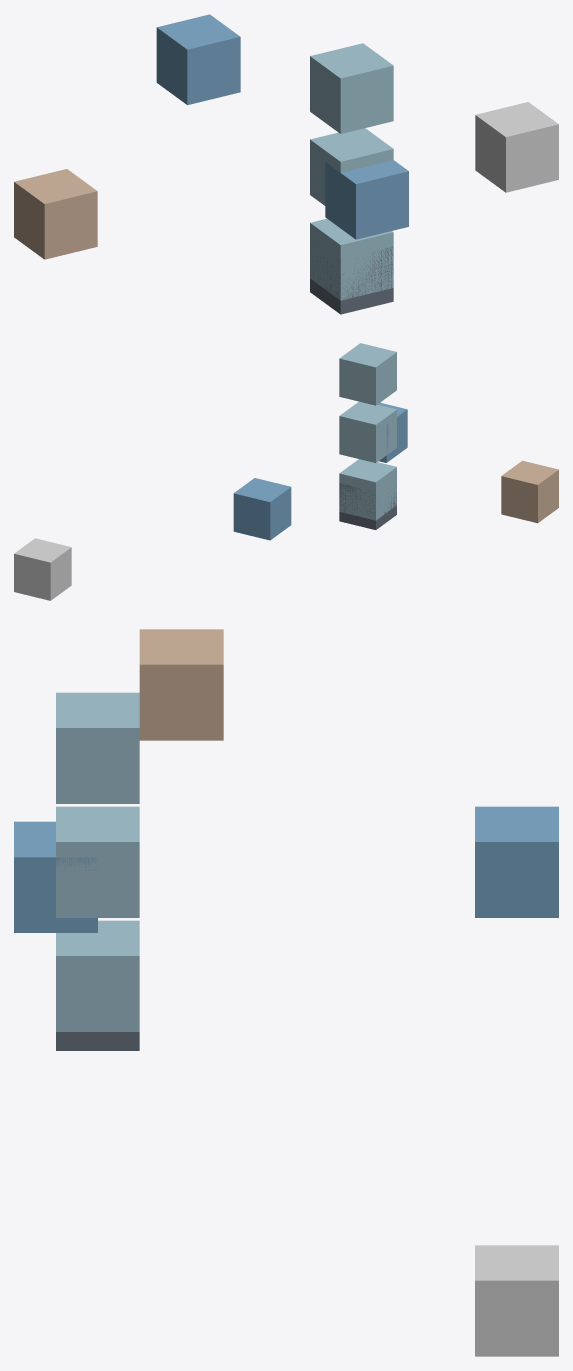
File: bld_mall_blue.glb
The picture shows the model from 3 angles, top to bottom: view 1: azimuth 30°, elevation 25°; view 2: azimuth 150°, elevation 25°; view 3: azimuth 270°, elevation 25°; orthographic projection. The views are drawn at different scales.
Parts seen in each view (by area): view 1: world; view 2: world; view 3: world.
Boxes of the visible parts, box(x1,y1,x2,y2) form: world: box(14, 14, 558, 314); world: box(14, 343, 558, 600); world: box(14, 629, 558, 1356).
Size of the model in its own units: 12 by 5.47 by 6.5.
